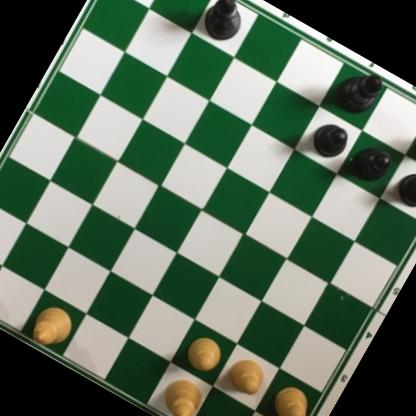black-bishop: (328, 61, 387, 124), (196, 0, 251, 49)
black-pawn: (345, 136, 398, 191), (305, 114, 356, 165), (390, 162, 416, 215)
black-rook: (416, 106, 416, 178)
white-bishop: (23, 298, 82, 361), (153, 371, 211, 416)
white-pawn: (223, 353, 271, 400), (181, 330, 227, 377), (267, 380, 317, 416)
